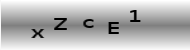1: (129, 9, 140, 23)
E: (107, 21, 120, 35)
Z: (53, 15, 67, 31)
c: (82, 18, 95, 29)
x: (31, 27, 44, 40)
